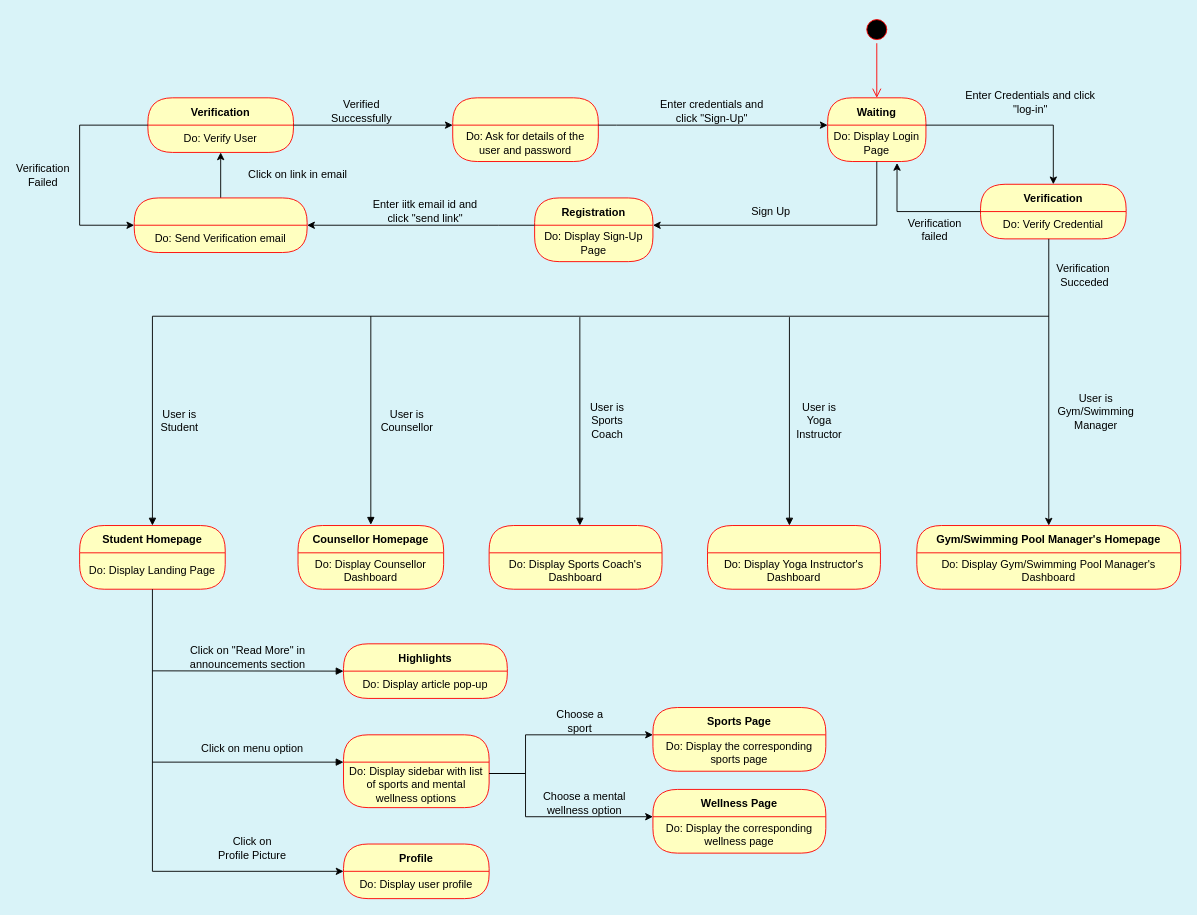
This 1197x915 diagram has some shape labels left out. The shapes that lost their labels are listed below. From the top down, each one's box as (x1, y1, x2, y2) in pixels, then its label:
(452, 97, 598, 162): Set Credentials
(133, 197, 307, 253): Email Generation
(488, 525, 662, 589): Sports Coach's Homepage
(707, 525, 880, 589): Yoga Instructor's Homepage
(343, 734, 489, 808): Navigation
